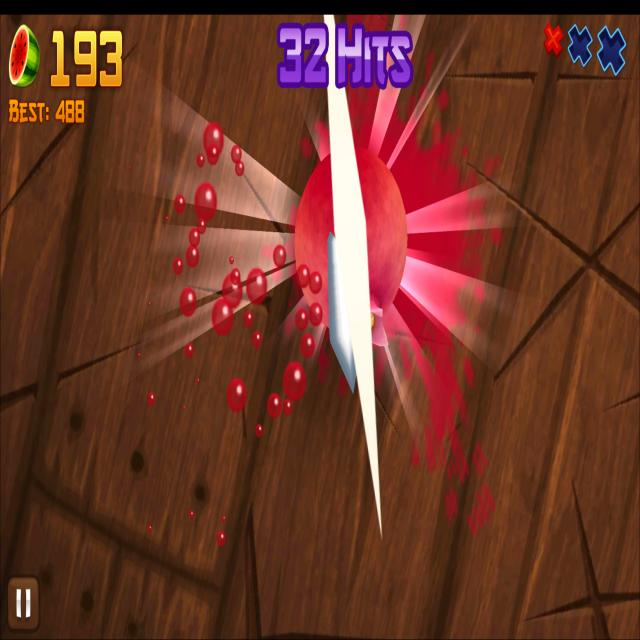fruit: (294, 146, 408, 332)
